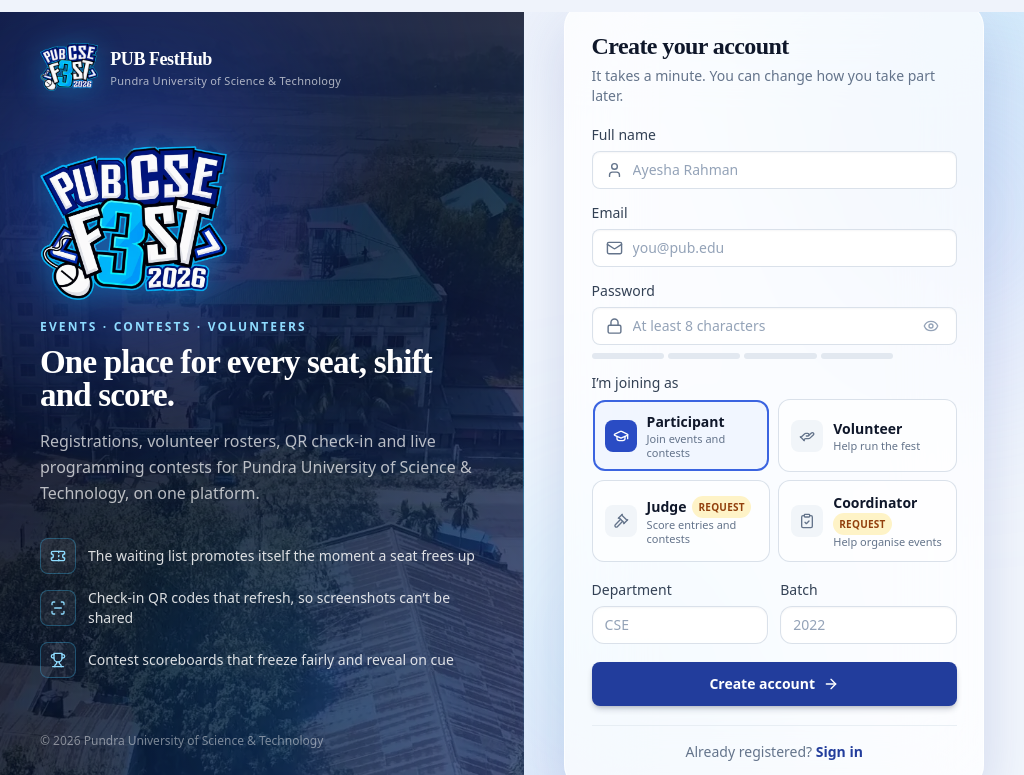
Test: register form: role requests › volunteer stays a direct role (no request is sent)
Step 1. Type "New User" into the field labelled "Full name" → (774, 170), box [592,151,957,189]
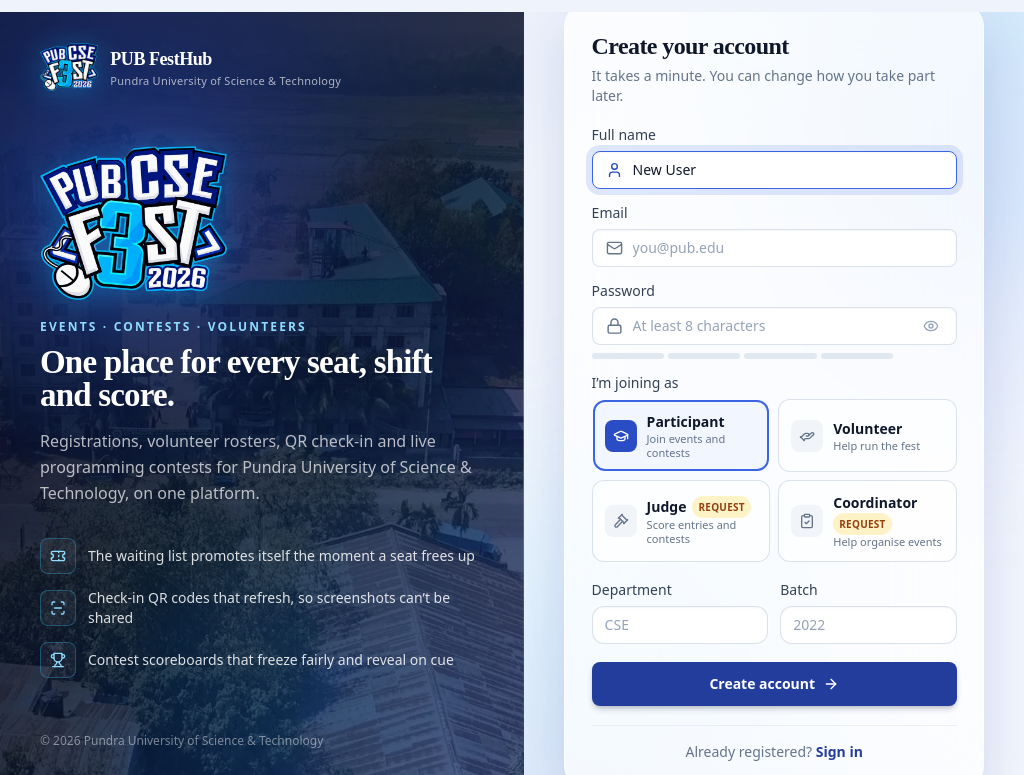
Step 2. Type "new@test.local" into the field labelled "Email" → (774, 248), box [592,229,957,267]
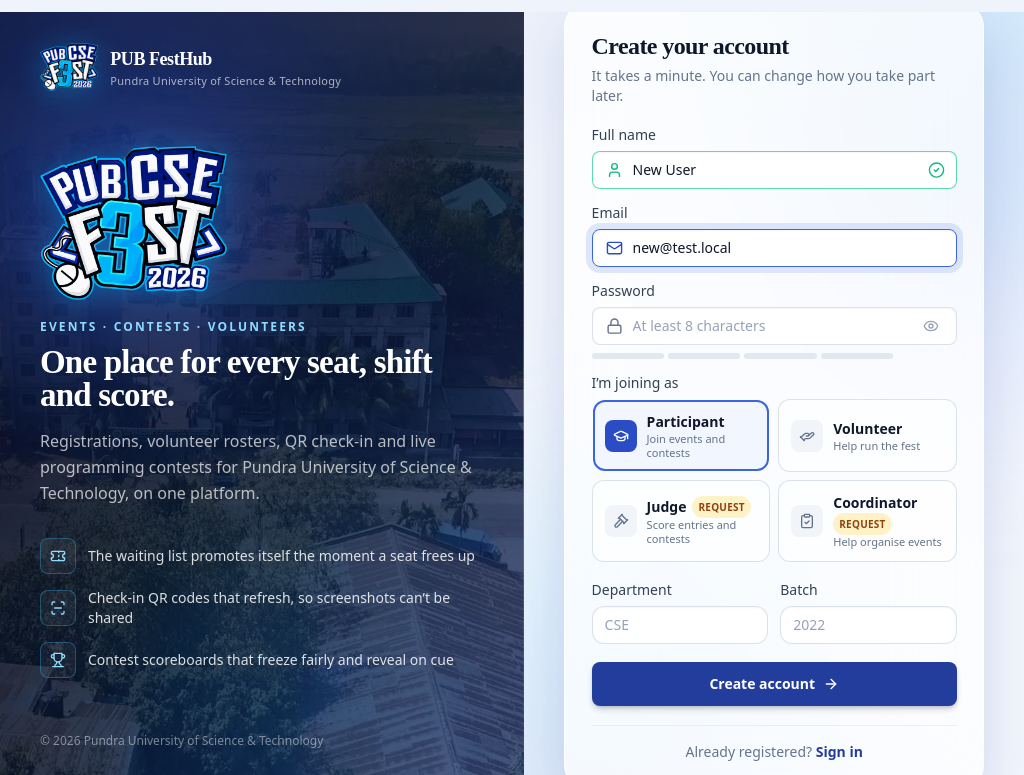
Step 3. Type "Str0ng!Passw0rd" into the password field labelled "Password" → (774, 326), box [592,307,957,345]
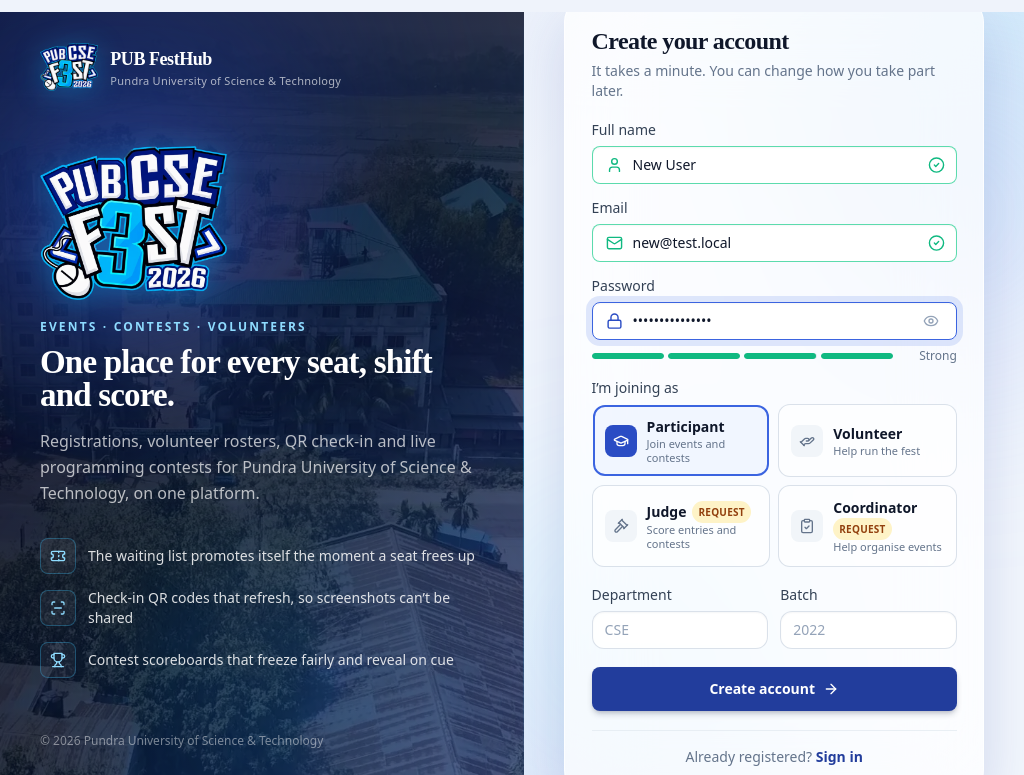
Step 4. Click the radio button labelled "Volunteer Help run the fest" → (868, 441), box [778,404,957,477]
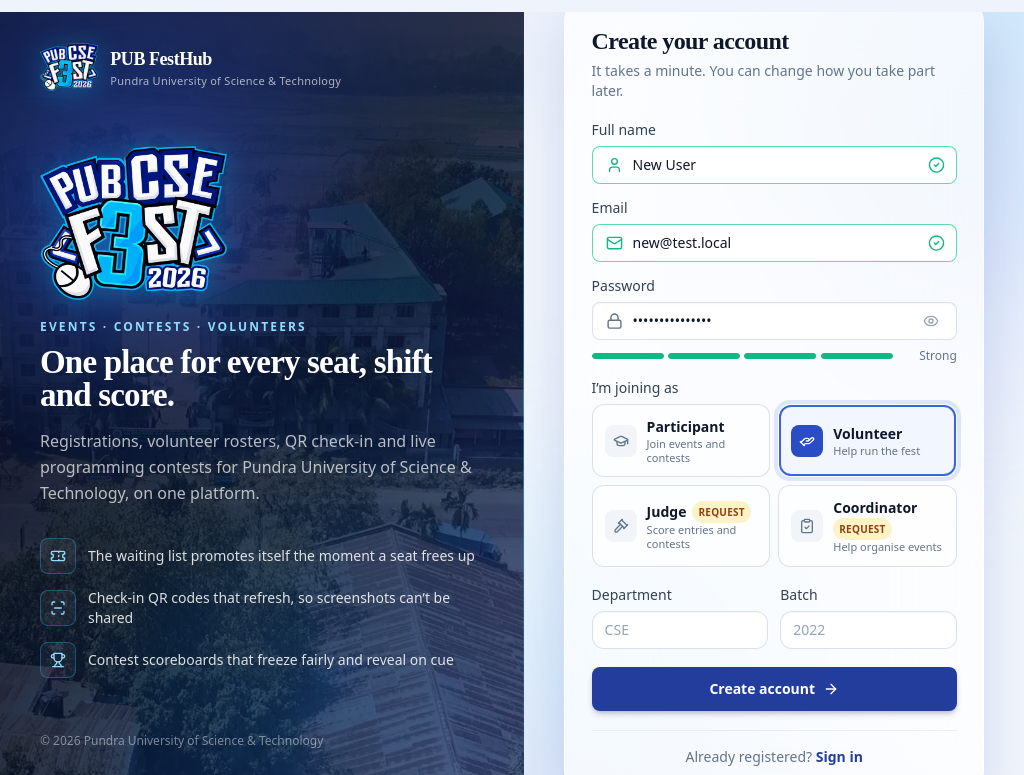
Step 5. Click the button "Create account" → (774, 689), box [592,667,957,711]
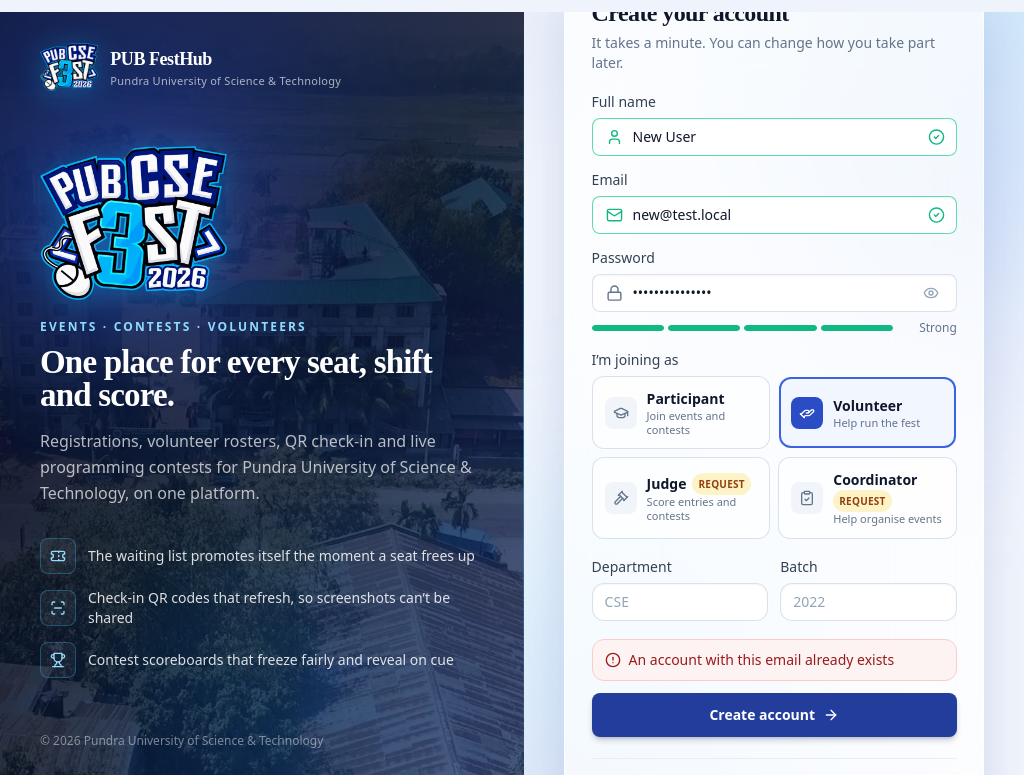
Now the text "An account with this email already exists" is shown, box [592,639,957,681]
